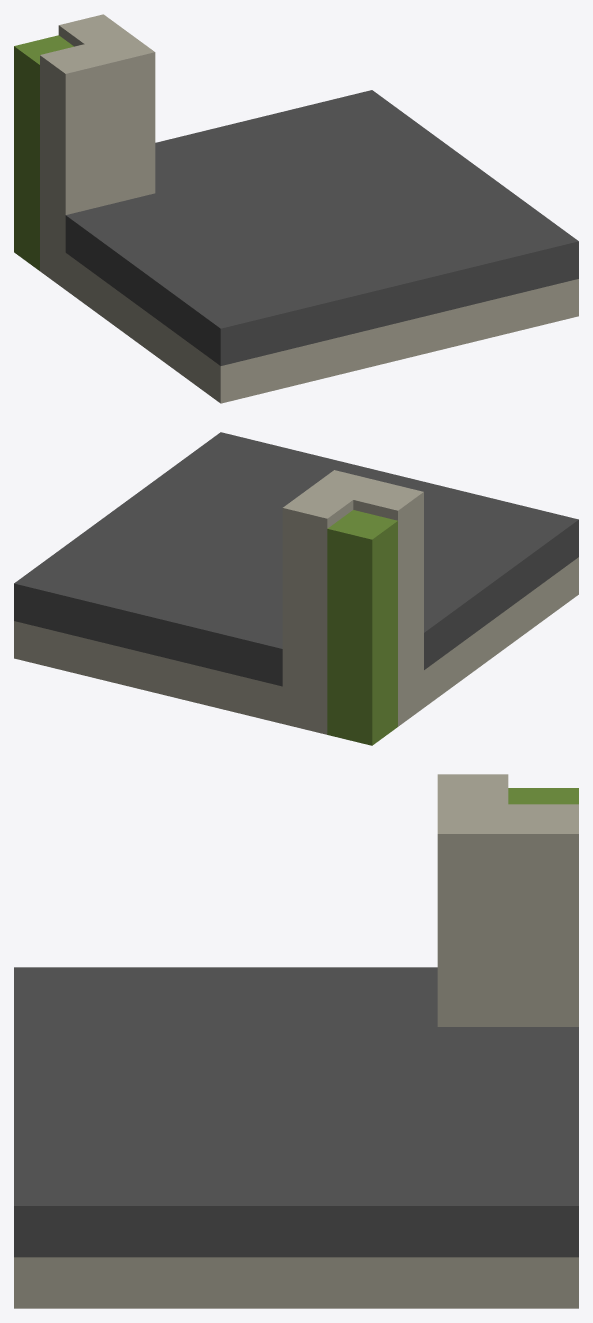
File: roadTile_046.obj
3 renders of one model, top to bottom at view 1: azimuth 30°, elevation 25°; view 2: azimuth 150°, elevation 25°; view 3: azimuth 270°, elevation 25°, orthographic. The views are drawn at different scales.
Parts seen in each view (by area): view 1: Mesh1_Group1_Model.200; view 2: Mesh1_Group1_Model.200; view 3: Mesh1_Group1_Model.200.
Part boxes in pixels (left/top/right/bottom): Mesh1_Group1_Model.200: left=14, top=14, right=578, bottom=403; Mesh1_Group1_Model.200: left=14, top=432, right=578, bottom=745; Mesh1_Group1_Model.200: left=14, top=774, right=578, bottom=1308.
Bounding box in the file's own units: 3 × 1.73 × 3.
